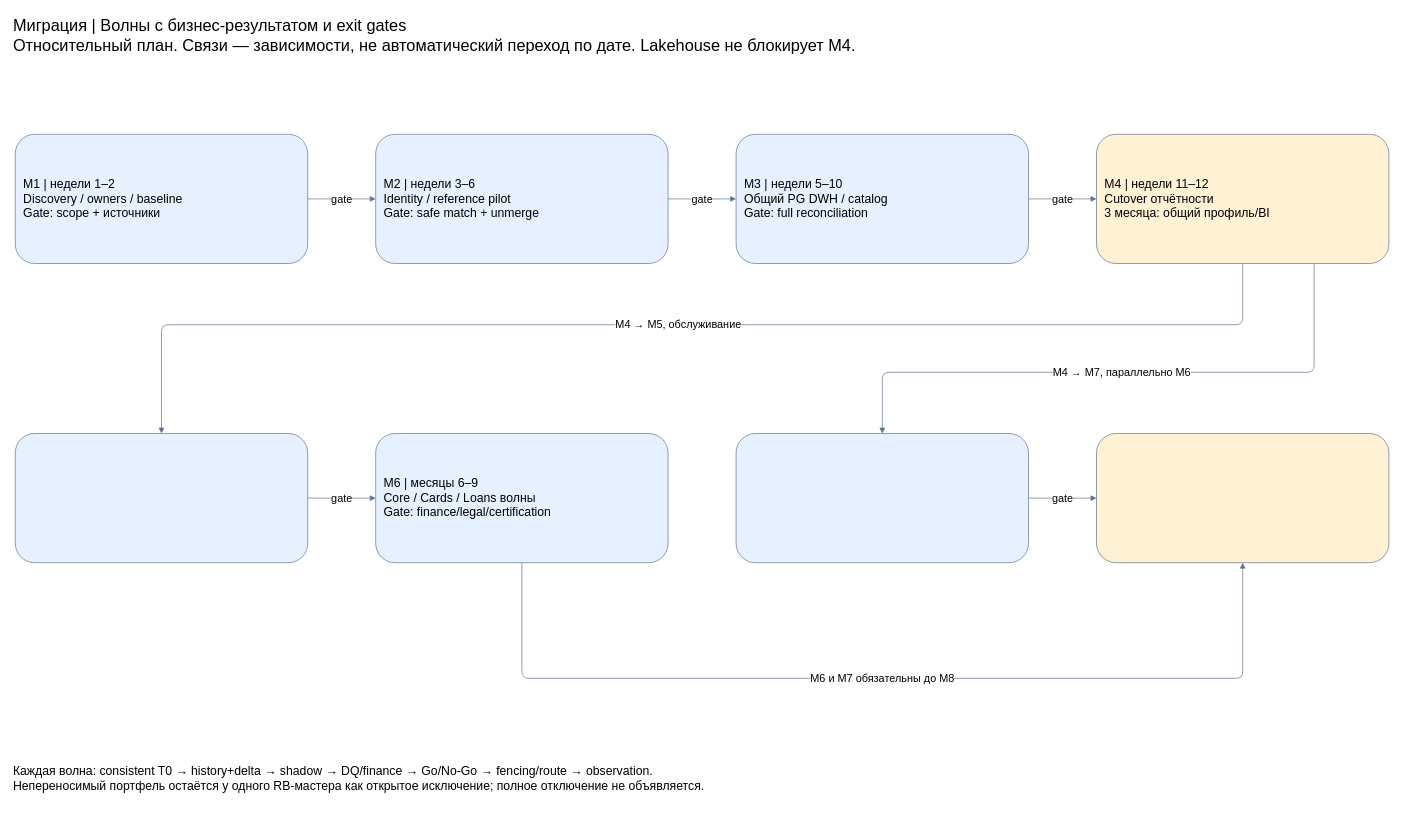
Some shapes in this 1424 by 815 pixel diagram are drawn without their labels. The box of each missing label's shape, as (x1, y1, x2, y2) in pixels:
M5 | месяцы 4–6 CRM / cases / consents Gate: один writer в когорте: (15, 433, 308, 563)
M7 | месяцы 7–10 Lakehouse / data products Gate: replay / ACL / cost: (735, 433, 1028, 563)
M8 | месяцы 10–12 Stabilize / archive / shutdown 12 месяцев: exit gates: (1096, 433, 1389, 563)
